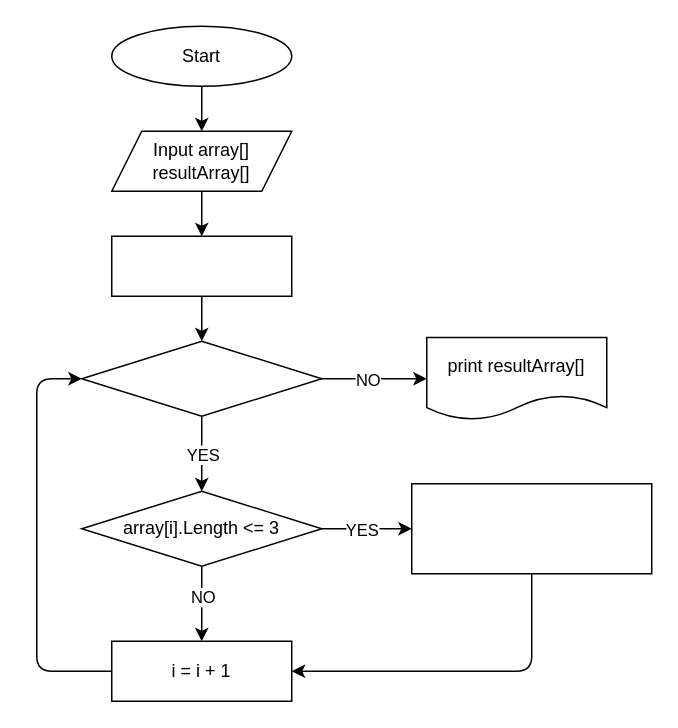
This 678x728 diagram has some shape labels left out. Here are the shapes that lost their labels. From the top down, the centre of each, then its label:
point 201,265: i = 0 count = 0
point 201,378: i < array.Length
point 531,528: resultArray[count] = array[i] count = count + 1
